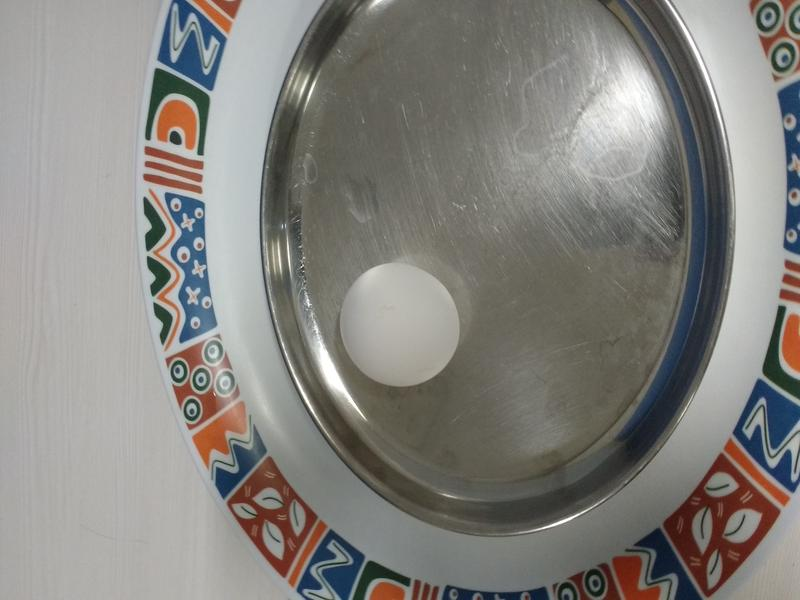egg: (340, 261, 458, 389)
